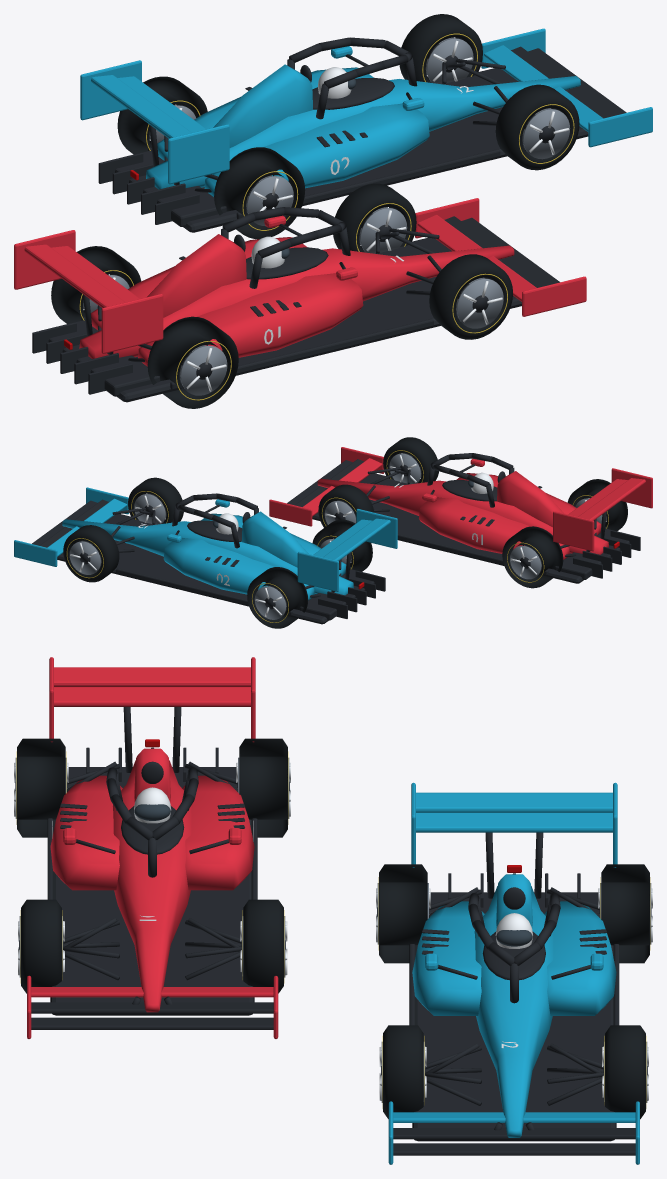
File: f1-two-cars.glb
3 renders of one model, top to bottom at view 1: azimuth 30°, elevation 25°; view 2: azimuth 150°, elevation 25°; view 3: azimuth 270°, elevation 25°, orthographic. The views are drawn at different scales.
Visible parts, largest first — view 1: Sculpted_Sidepod, Sculpted_Sidepod.002, Monocoque_Nose, Monocoque_Nose.001, Floor, Floor.001, Tyre.002, Airbox_Engine_Cover.001, Airbox_Engine_Cover, Tyre.006, Tyre.004, Tyre (+44 smaller); view 2: Sculpted_Sidepod.001, Sculpted_Sidepod.003, Monocoque_Nose, Monocoque_Nose.001, Floor.001, Floor, Tyre.003, Tyre.007, Airbox_Engine_Cover.001, Airbox_Engine_Cover, Tyre.005, Rear_Wing_Endplate.001 (+42 smaller); view 3: Floor, Floor.001, Monocoque_Nose, Monocoque_Nose.001, Sculpted_Sidepod.001, Sculpted_Sidepod, Sculpted_Sidepod.002, Sculpted_Sidepod.003, Tyre.003, Tyre.002, Tyre.007, Tyre.006 (+20 smaller).
Part boxes in pixels (<box>): Sculpted_Sidepod: <box>138,273,363,366</box>; Sculpted_Sidepod.002: <box>204,103,429,196</box>; Monocoque_Nose: <box>79,245,514,358</box>; Monocoque_Nose.001: <box>146,76,580,189</box>; Floor: <box>116,237,521,402</box>; Floor.001: <box>183,68,588,232</box>; Tyre.002: <box>147,316,238,408</box>; Airbox_Engine_Cover.001: <box>213,64,313,147</box>; Airbox_Engine_Cover: <box>147,234,246,317</box>; Tyre.006: <box>214,147,305,239</box>; Tyre.004: <box>495,84,579,170</box>; Tyre: <box>429,254,512,339</box>; Sculpted_Sidepod.001: <box>419,497,569,559</box>; Sculpted_Sidepod.003: <box>163,538,314,600</box>; Monocoque_Nose: <box>317,478,608,554</box>; Monocoque_Nose.001: <box>62,519,353,595</box>; Floor.001: <box>57,514,328,624</box>; Floor: <box>312,473,583,583</box>; Tyre.003: <box>502,526,563,588</box>; Tyre.007: <box>247,567,308,628</box>; Airbox_Engine_Cover.001: <box>241,511,308,567</box>; Airbox_Engine_Cover: <box>497,471,563,527</box>; Tyre.005: <box>63,525,119,582</box>; Rear_Wing_Endplate.001: <box>553,511,594,551</box>; Floor: <box>50,819,254,1015</box>; Floor.001: <box>412,945,616,1141</box>; Monocoque_Nose: <box>113,760,192,1012</box>; Monocoque_Nose.001: <box>474,886,553,1137</box>; Sculpted_Sidepod.001: <box>182,775,254,890</box>; Sculpted_Sidepod: <box>50,775,122,890</box>; Sculpted_Sidepod.002: <box>412,901,484,1015</box>; Sculpted_Sidepod.003: <box>544,901,616,1015</box>; Tyre.003: <box>239,738,287,837</box>; Tyre.002: <box>17,738,65,837</box>; Tyre.007: <box>601,864,649,963</box>; Tyre.006: <box>379,864,427,963</box>.
Bounding box in the file's own units: 7.18 × 1.09 × 4.94.
